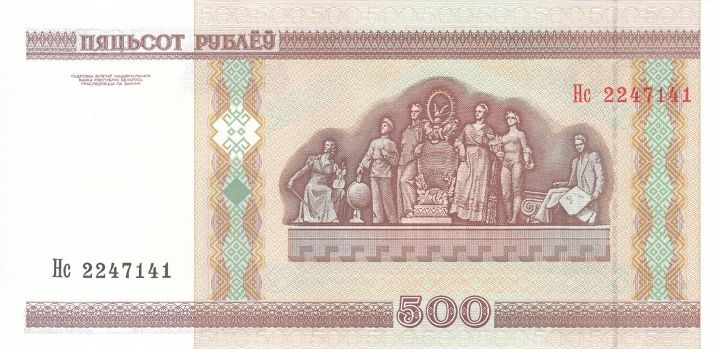belarus_ruble_500: (2, 1, 714, 349)
